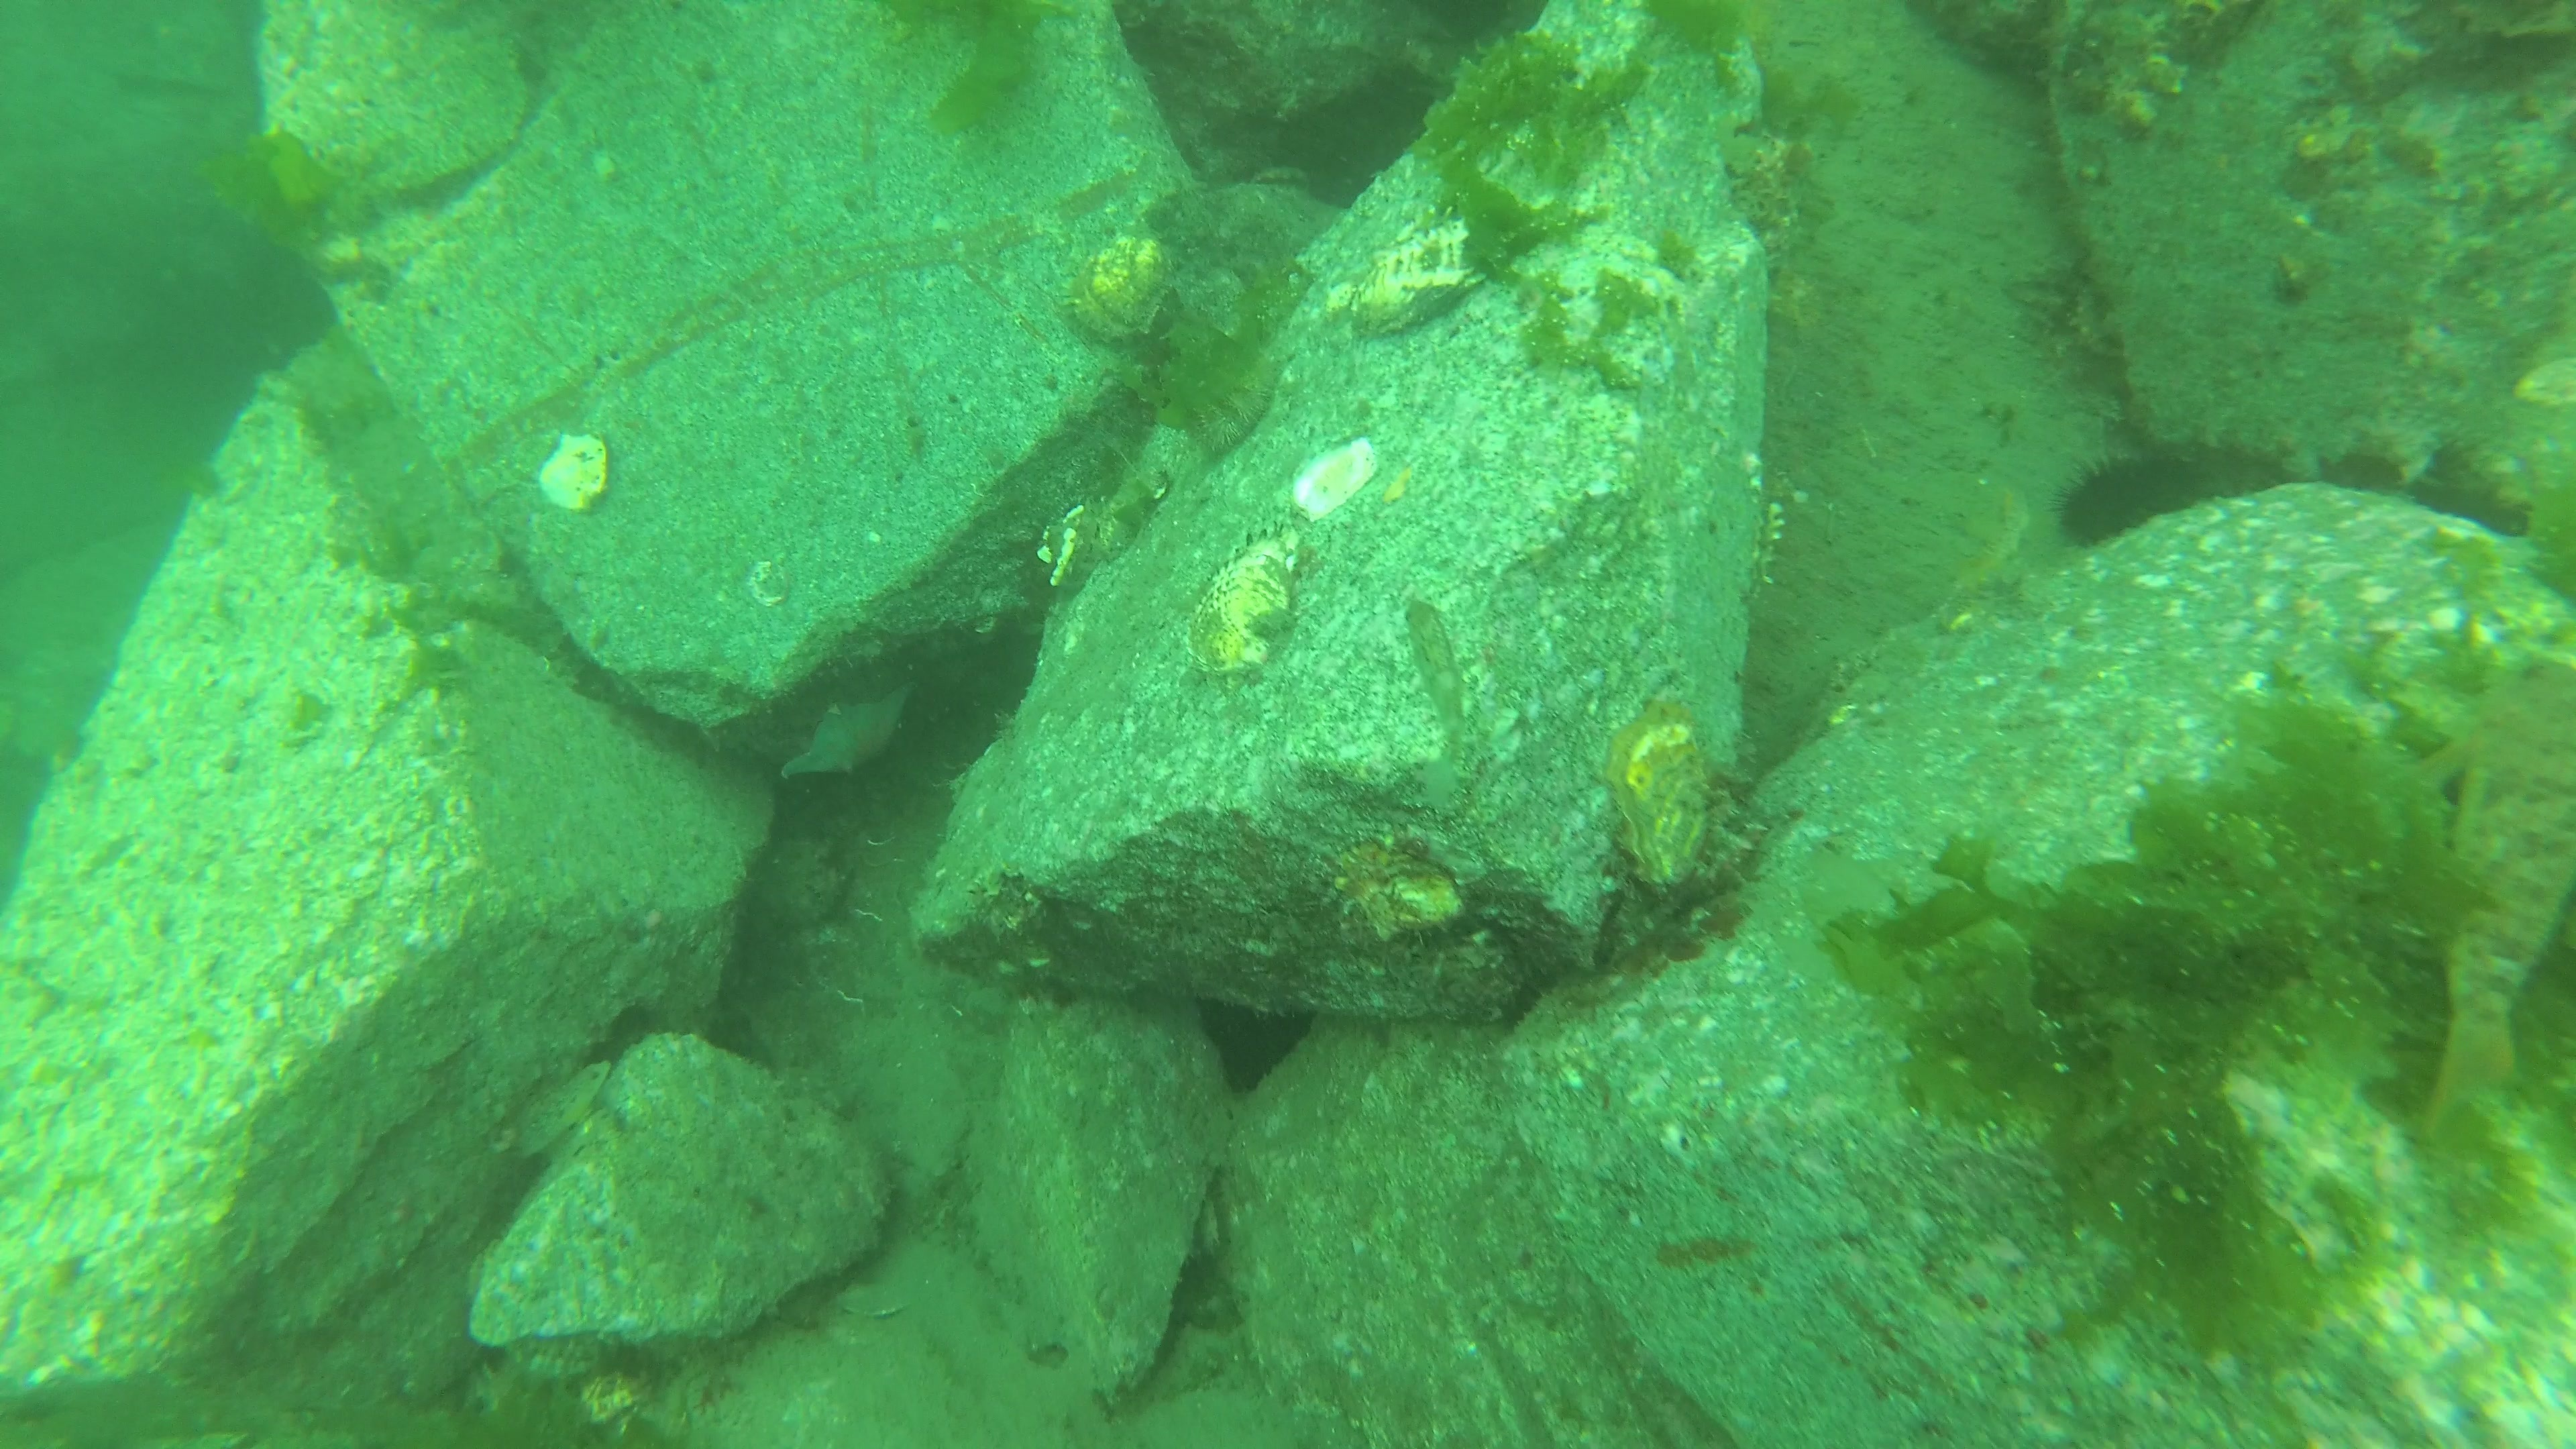echinus: (1279, 60, 1435, 207), (2043, 455, 2201, 552), (2419, 432, 2502, 502), (2316, 446, 2406, 492)
starfish: (782, 681, 915, 780)
